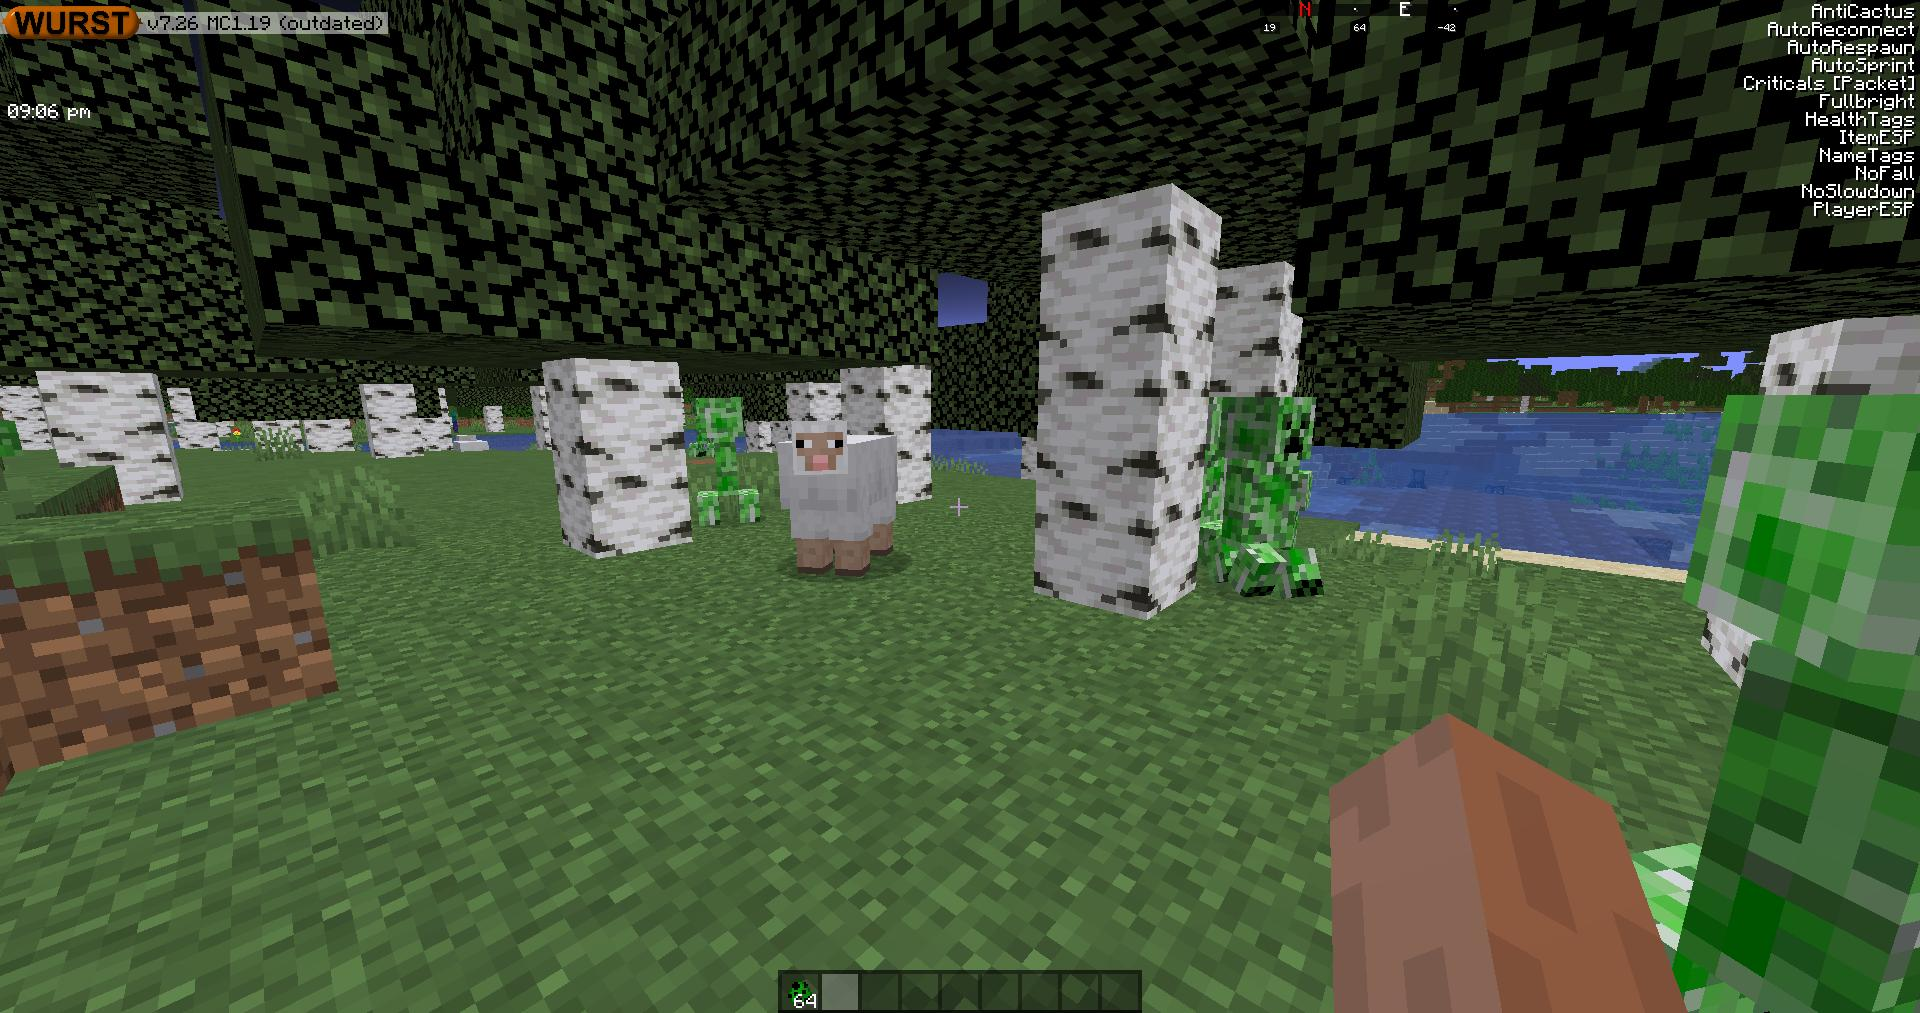creeper: (1697, 377, 1917, 1012), (1218, 391, 1319, 606), (684, 395, 761, 531)
